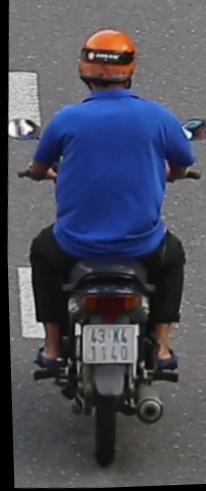LP: (77, 321, 136, 370)
helmet: (75, 21, 142, 91)
